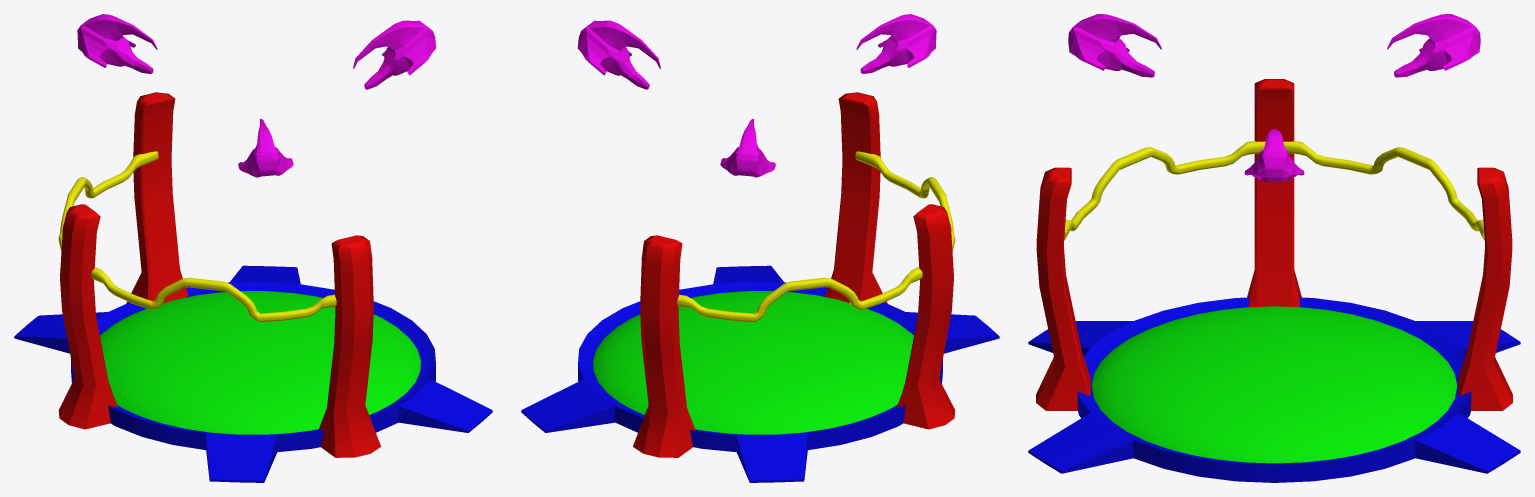
Rendered from Teletransporter.fbx.
3 renders of one model, left to right at view 1: azimuth 30°, elevation 25°; view 2: azimuth 150°, elevation 25°; view 3: azimuth 270°, elevation 25°, orthographic. The views are drawn at different scales.
Parts seen in each view (by area): view 1: BallTransform, BaseTransform, HandlesTransform, HandlesTransform3, HandlesTransform2, FlyingTransform, FlyingTransform2, RailTransform, FlyingTransform1, RailTransform1; view 2: BallTransform, BaseTransform, HandlesTransform2, HandlesTransform3, HandlesTransform, FlyingTransform, FlyingTransform1, RailTransform1, FlyingTransform2, RailTransform; view 3: BallTransform, BaseTransform, HandlesTransform3, HandlesTransform, HandlesTransform2, FlyingTransform1, FlyingTransform2, RailTransform, RailTransform1, FlyingTransform.
Boxes of the visible parts, box(x1,y1,x2,y2) form: BallTransform: box(100, 291, 420, 434); BaseTransform: box(14, 265, 492, 482); HandlesTransform: box(318, 235, 380, 457); HandlesTransform3: box(58, 204, 117, 429); HandlesTransform2: box(126, 92, 188, 303); FlyingTransform: box(353, 20, 436, 89); FlyingTransform2: box(77, 14, 157, 73); RailTransform: box(91, 267, 336, 322); FlyingTransform1: box(238, 119, 293, 177); RailTransform1: box(58, 151, 158, 250); BallTransform: box(593, 291, 913, 434); BaseTransform: box(521, 265, 999, 482); HandlesTransform2: box(633, 235, 695, 457); HandlesTransform3: box(896, 204, 955, 429); HandlesTransform: box(825, 92, 887, 303); FlyingTransform: box(577, 20, 660, 89); FlyingTransform1: box(856, 14, 936, 73); RailTransform1: box(677, 267, 922, 322); FlyingTransform2: box(720, 119, 775, 177); RailTransform: box(855, 151, 955, 250); BallTransform: box(1091, 306, 1457, 463); BaseTransform: box(1028, 297, 1520, 482); HandlesTransform3: box(1247, 79, 1301, 306); HandlesTransform: box(1036, 167, 1090, 410); HandlesTransform2: box(1458, 167, 1512, 410); FlyingTransform1: box(1068, 14, 1161, 77); FlyingTransform2: box(1387, 14, 1480, 77); RailTransform: box(1064, 141, 1265, 240); RailTransform1: box(1283, 141, 1484, 240); FlyingTransform: box(1244, 128, 1304, 181).
Bounding box in the file's own units: 4.64 × 3.85 × 4.93.
